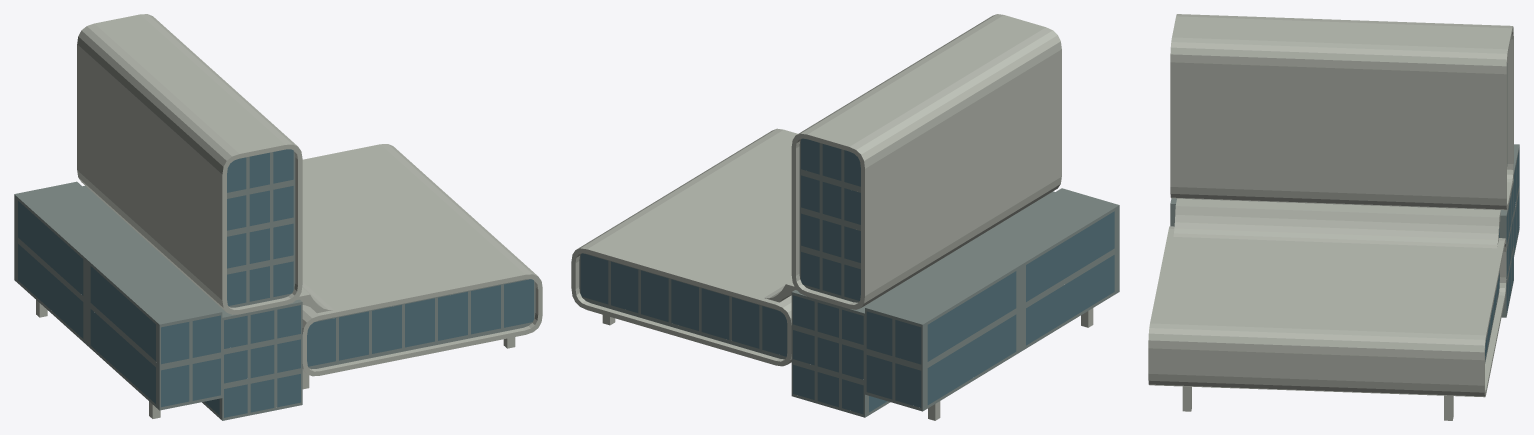
The model's file is rai-elicium-far.glb.
3 renders of one model, left to right at view 1: azimuth 30°, elevation 25°; view 2: azimuth 150°, elevation 25°; view 3: azimuth 270°, elevation 25°, orthographic. The views are drawn at different scales.
Parts seen in each view (by area): view 1: rai-elicium-0-frame, rai-elicium-0-glass, rai-elicium-0-metal, rai-elicium-0-roof; view 2: rai-elicium-0-frame, rai-elicium-0-glass, rai-elicium-0-metal, rai-elicium-0-roof; view 3: rai-elicium-0-frame, rai-elicium-0-glass, rai-elicium-0-metal.
Boxes of the visible parts, bbox=[...] form: rai-elicium-0-frame: bbox=[36, 14, 542, 418]; rai-elicium-0-glass: bbox=[18, 149, 533, 417]; rai-elicium-0-metal: bbox=[14, 151, 535, 420]; rai-elicium-0-roof: bbox=[14, 181, 301, 324]; rai-elicium-0-frame: bbox=[571, 14, 1093, 420]; rai-elicium-0-glass: bbox=[580, 138, 1114, 414]; rai-elicium-0-metal: bbox=[579, 140, 1119, 417]; rai-elicium-0-roof: bbox=[792, 188, 1118, 324]; rai-elicium-0-frame: bbox=[1148, 14, 1513, 420]; rai-elicium-0-glass: bbox=[1485, 150, 1519, 359]; rai-elicium-0-metal: bbox=[1170, 63, 1519, 363].
Size of the model in its own units: 71.29 by 46 by 59.42.
